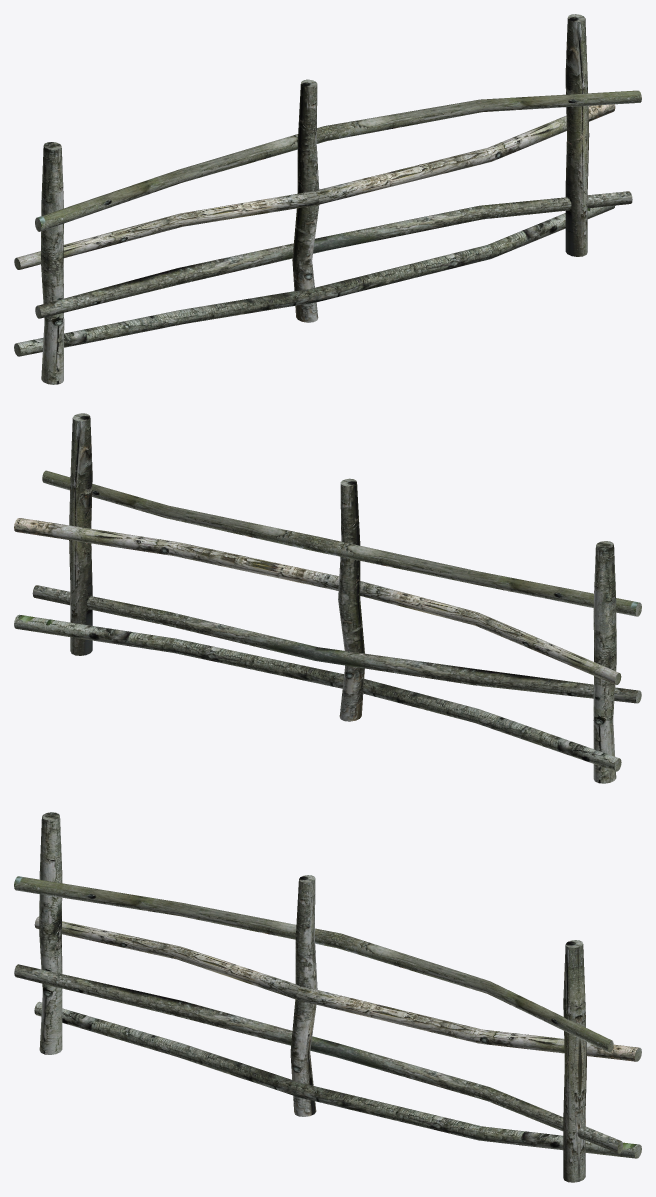
File: fence2.obj
3 views of the same model, one above another, from view 1: azimuth 30°, elevation 25°; view 2: azimuth 150°, elevation 25°; view 3: azimuth 330°, elevation 25° (orthographic).
Visible parts, largest first — view 1: fence; view 2: fence; view 3: fence.
Boxes of the visible parts, x1,y1,x2,y2 form: fence: [14, 14, 641, 384]; fence: [14, 413, 641, 783]; fence: [14, 812, 641, 1182].
Size of the model in its own units: 116 by 43.34 by 11.4.
